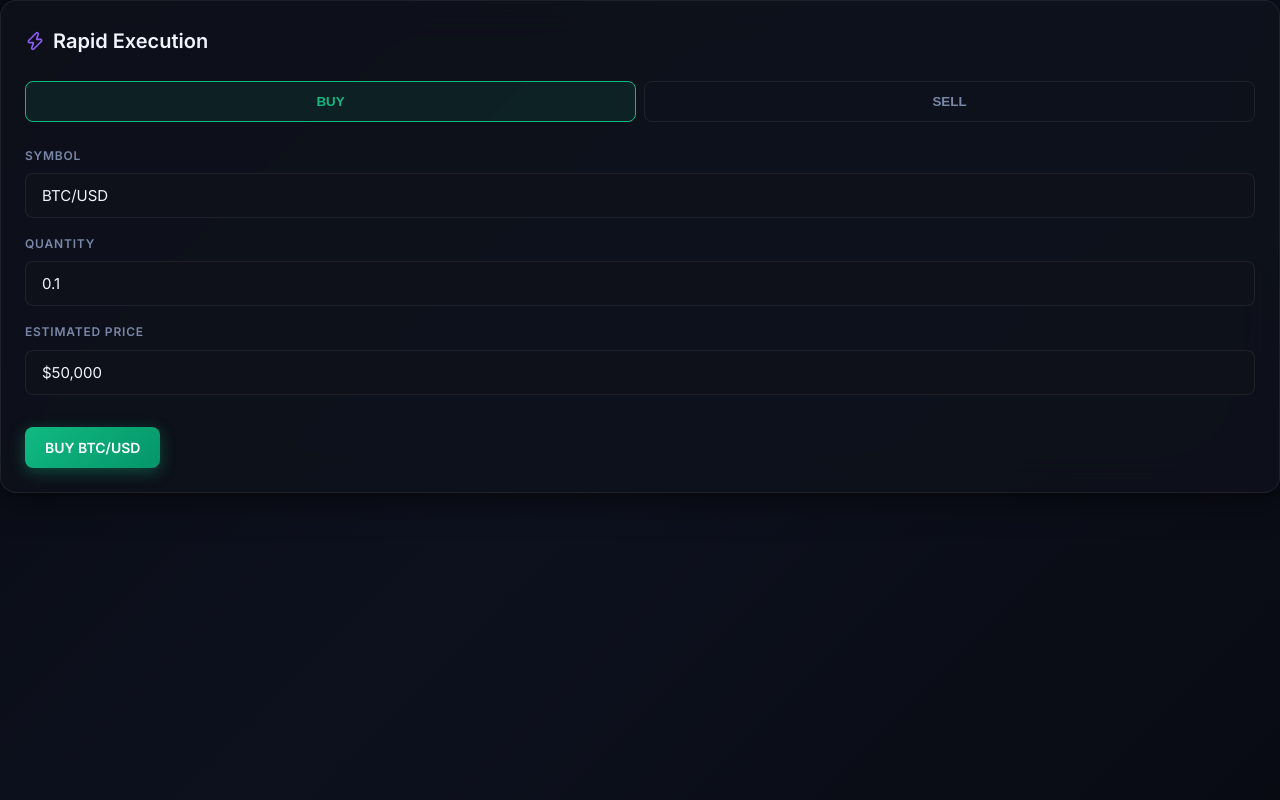
Test case: TradePanel › can switch sides
Click the button "SELL": (950, 102) [644,81,1255,122]
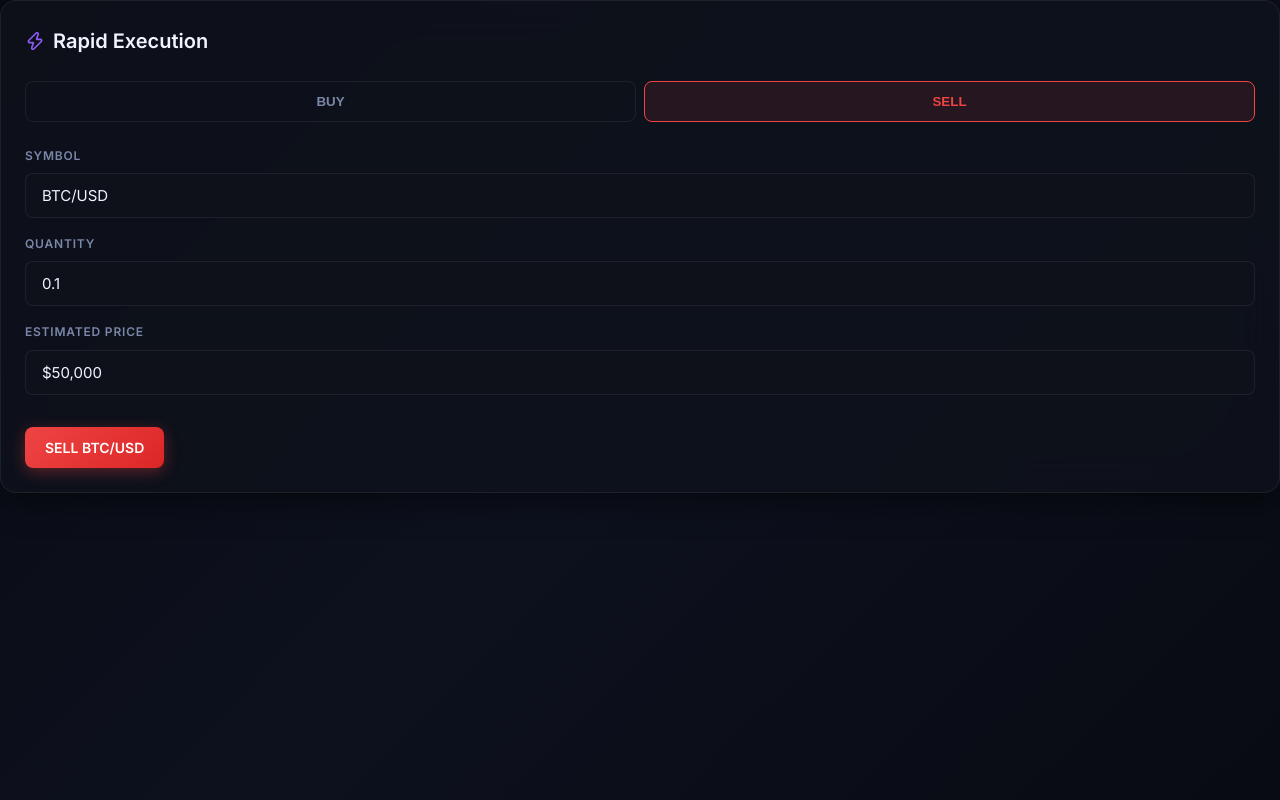
Result: the button "SELL BTC/USD" is shown at [25,427,164,468]
Click the button "BUY": (330, 102) [25,81,636,122]
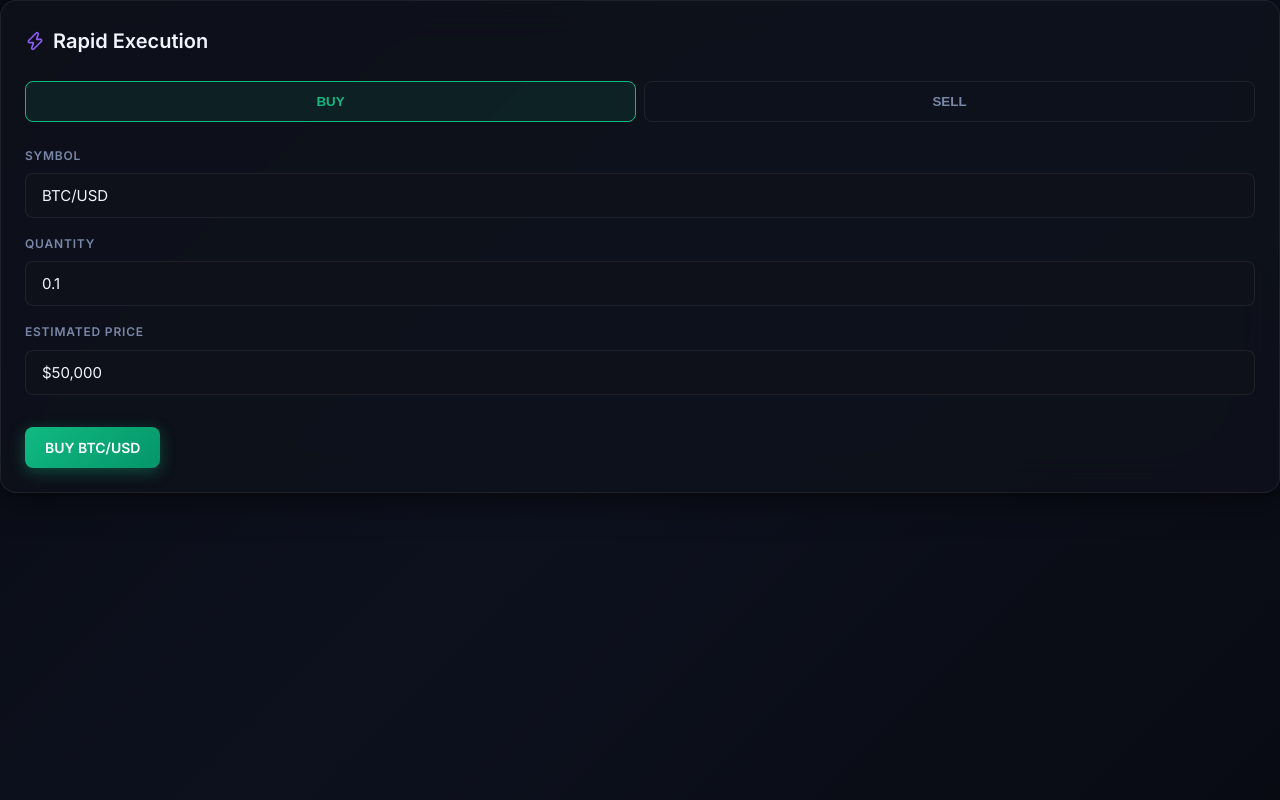
Result: the button "BUY BTC/USD" is shown at [25,427,160,468]
